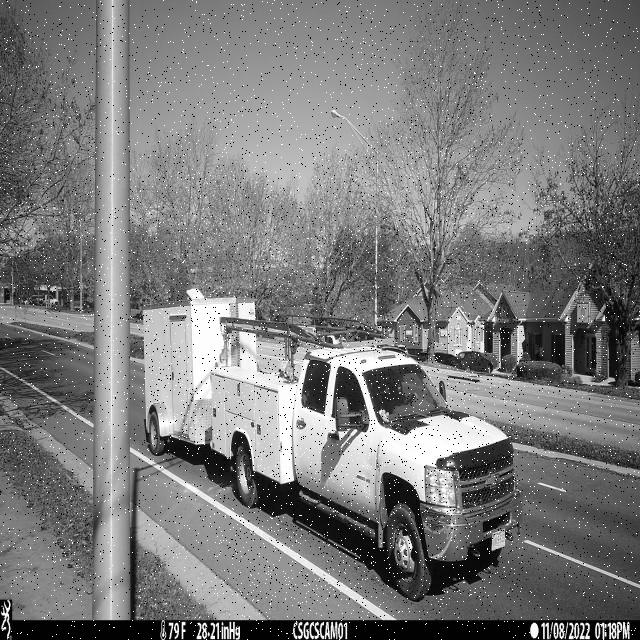Box Truck: (142, 289, 257, 457)
Pickup- Utility: (210, 317, 523, 603)
